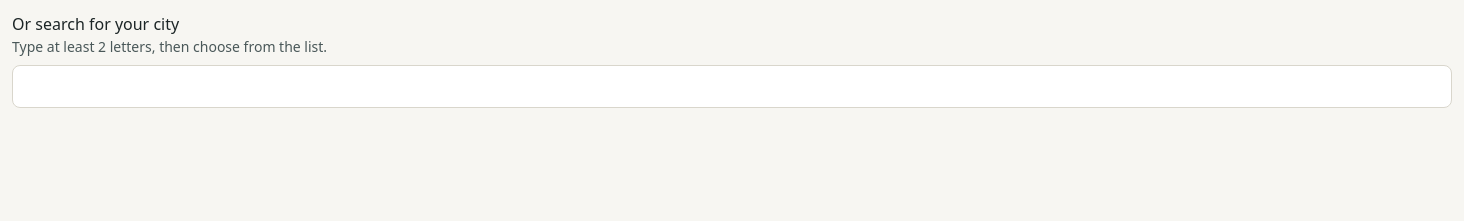
CityCombobox › closes on Escape without choosing
The width and height of the screenshot is (1464, 221).
Later steps or results of the test are not shown.
Type "De" into the dropdown. click: (732, 86)
box: [12,65,1452,108]
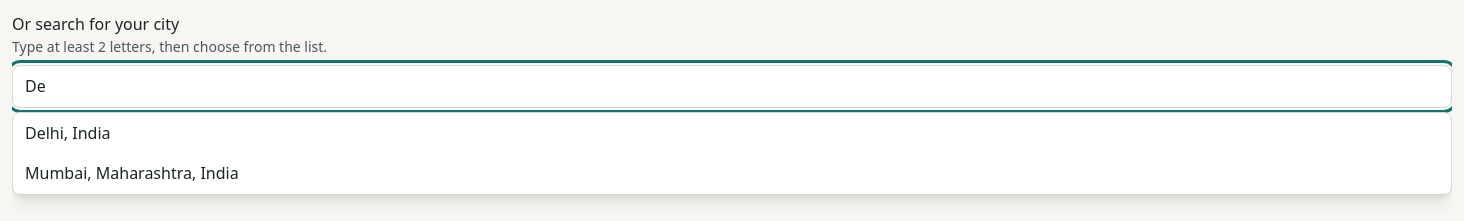
Result: the option "Delhi, India" is shown at [25,122,111,144]
